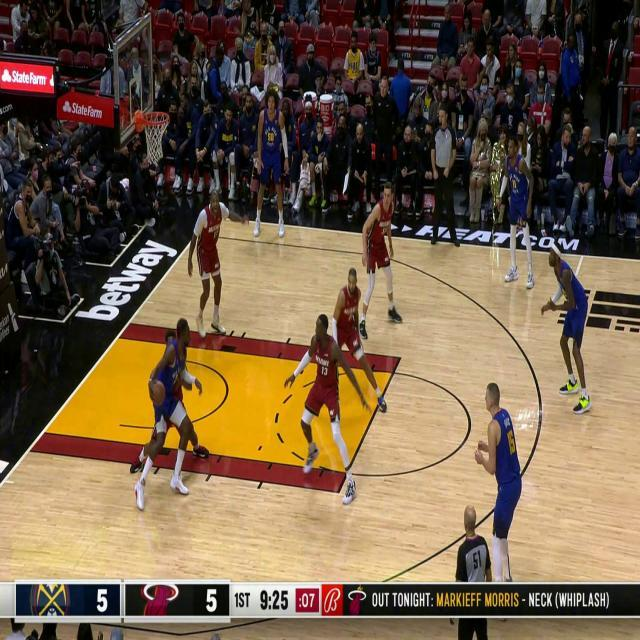rim: (152, 380, 164, 404)
